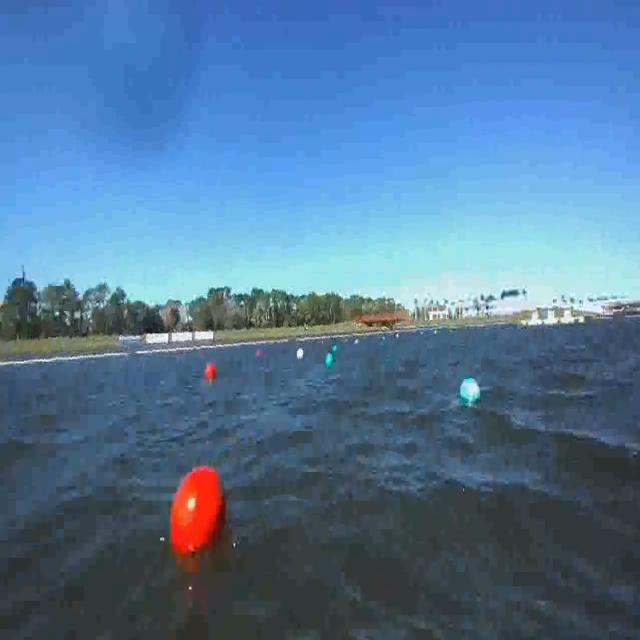green-buoy: (459, 377, 480, 405), (327, 353, 336, 368)
red-buoy: (168, 464, 230, 560), (206, 362, 217, 379), (256, 349, 262, 357)
yellow-buoy: (296, 341, 307, 361)
